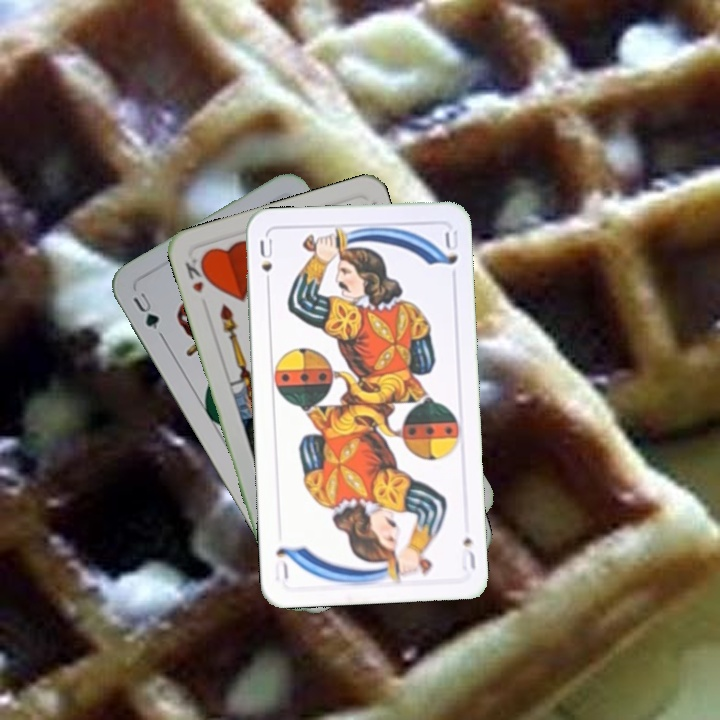GU: (128, 288, 162, 332)
HK: (181, 253, 212, 296)
SU: (256, 234, 275, 292), (457, 533, 478, 573)
